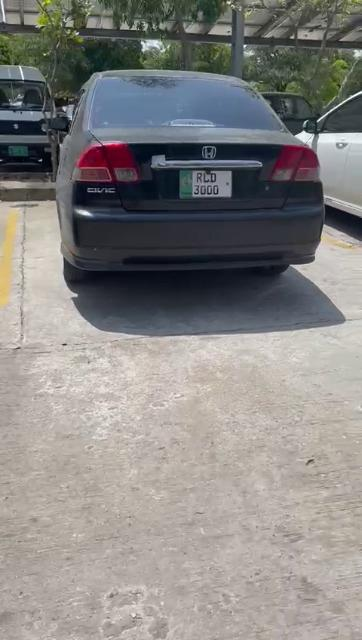plate: (178, 168, 233, 198)
